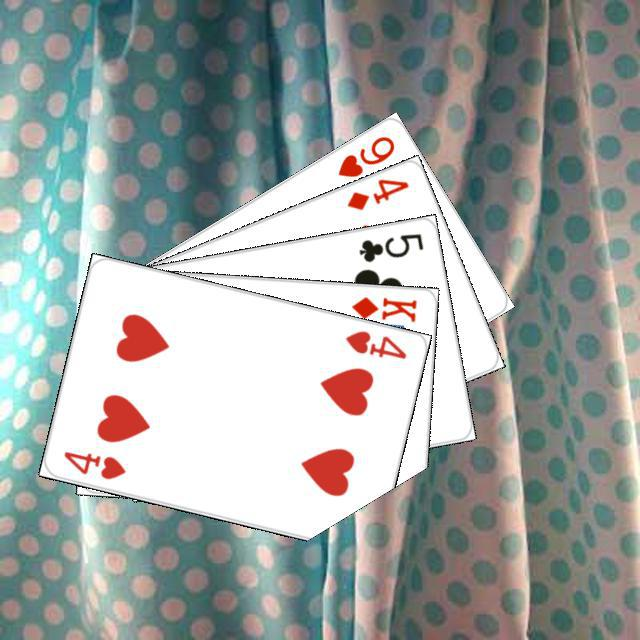4d: (342, 173, 411, 212)
4h: (340, 325, 408, 361), (59, 446, 128, 481)
5c: (354, 228, 425, 264)
9h: (332, 131, 397, 179)
Kd: (347, 292, 418, 324)
